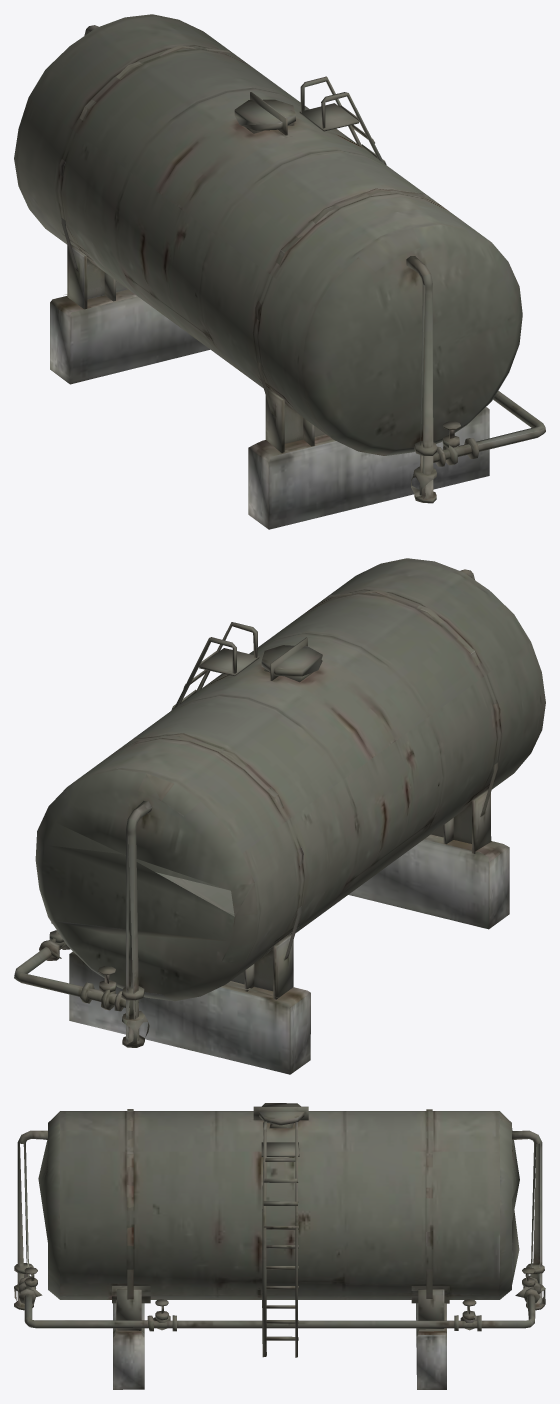
File: fuel_tank.glb
The picture shows the model from 3 angles, top to bottom: view 1: azimuth 30°, elevation 25°; view 2: azimuth 150°, elevation 25°; view 3: azimuth 270°, elevation 25°; orthographic projection. The views are drawn at different scales.
Parts seen in each view (by area): view 1: hull; view 2: hull; view 3: hull.
Boxes of the visible parts, bbox=[...] form: hull: bbox=[14, 14, 545, 529]; hull: bbox=[14, 558, 545, 1074]; hull: bbox=[14, 1103, 545, 1389].
Bounding box in the file's own units: 3.81 × 5.08 × 10.
Materials: 1 (1 with a texture image).
